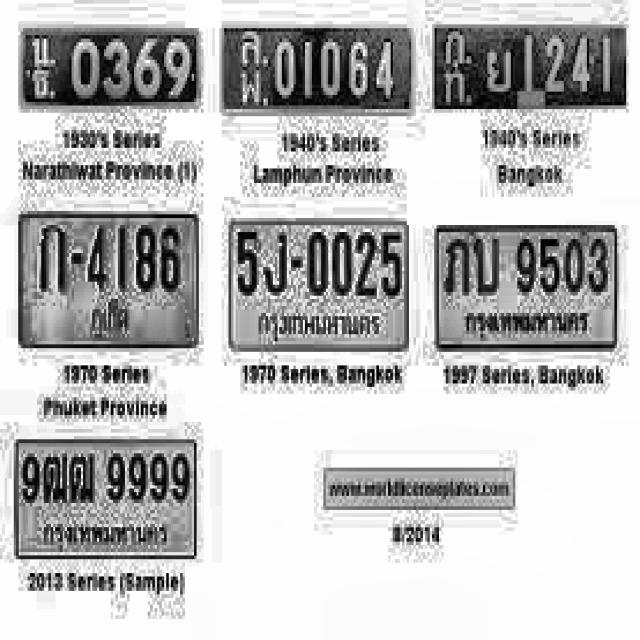license-plate: (17, 210, 202, 352), (228, 214, 411, 354), (434, 221, 620, 355), (14, 436, 199, 564)
